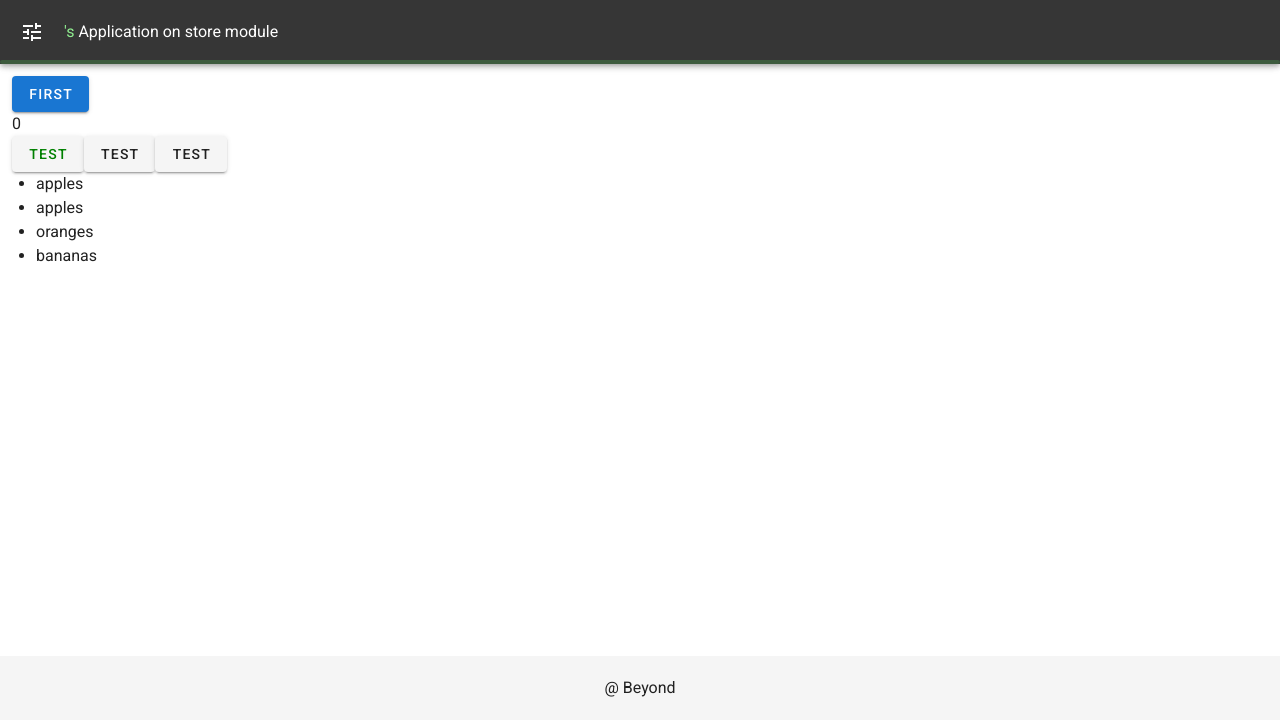
Scenario: commands-contains › command contains: button
Click the button "First" at (51,94), box [12,76,89,112]
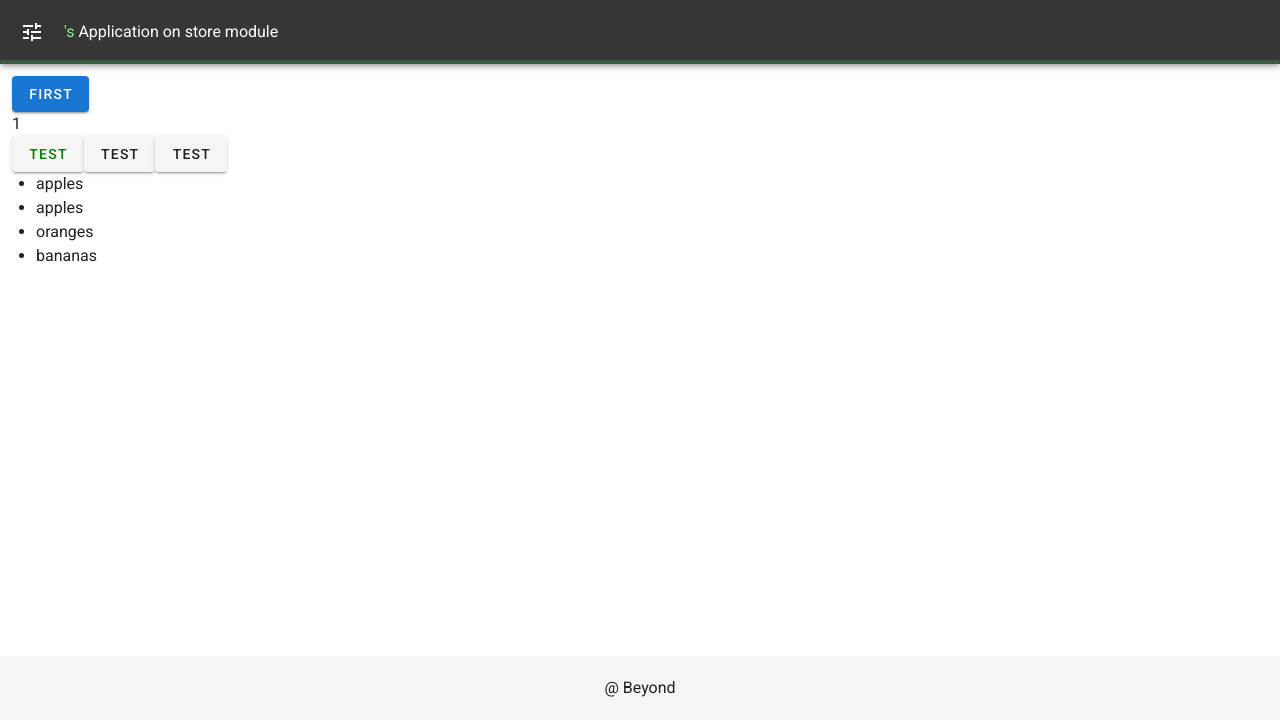
expect the text with class "res" reads "1": met, box [12,114,21,133]
